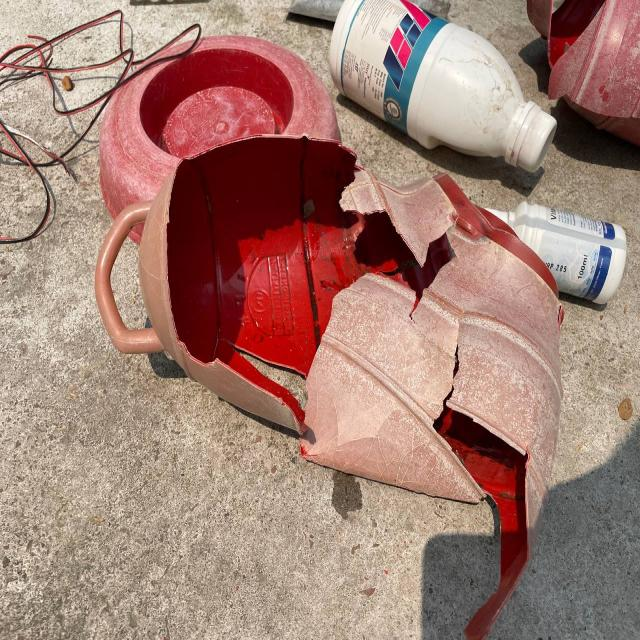Cable: (0, 0, 114, 280)
Plastics: (112, 6, 640, 610)
